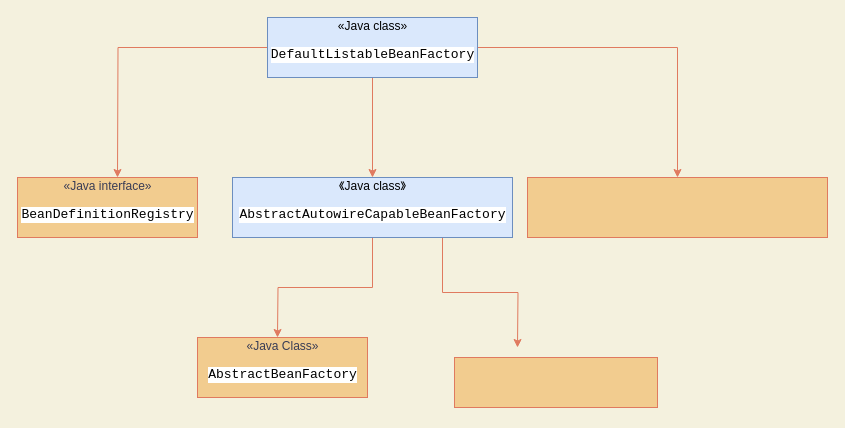
This 845x428 diagram has some shape labels left out. The box of each missing label's shape, as (x1, y1, x2, y2) in pixels:
«Java interface» AutowireCapableBeanFactory: (454, 356, 658, 408)
《Java interface》 ConfigurableListableBeanFactory: (526, 176, 828, 238)
